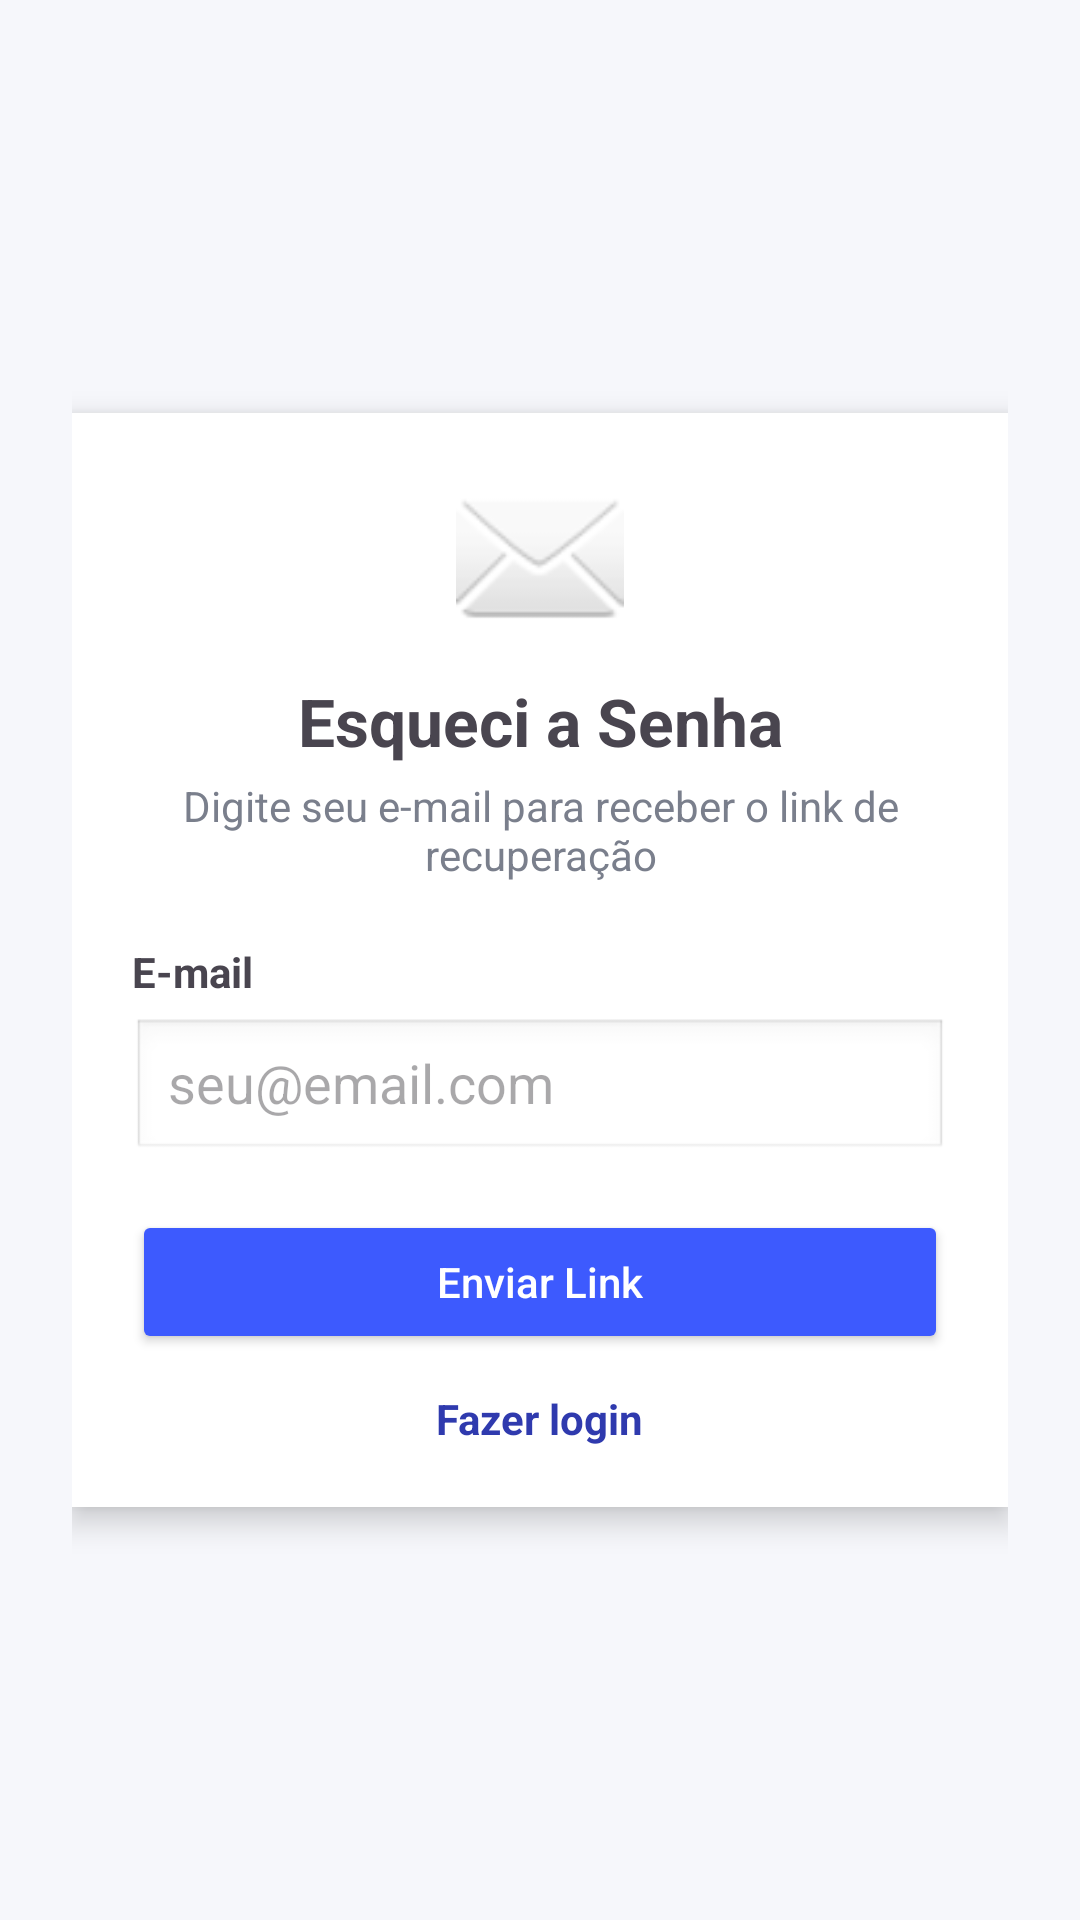

Named icons in this screenshot (1080*1920) and their bounding boxes, region(x1, y1, x2, y2):
Ícone e-mail: region(456, 503, 624, 618)
